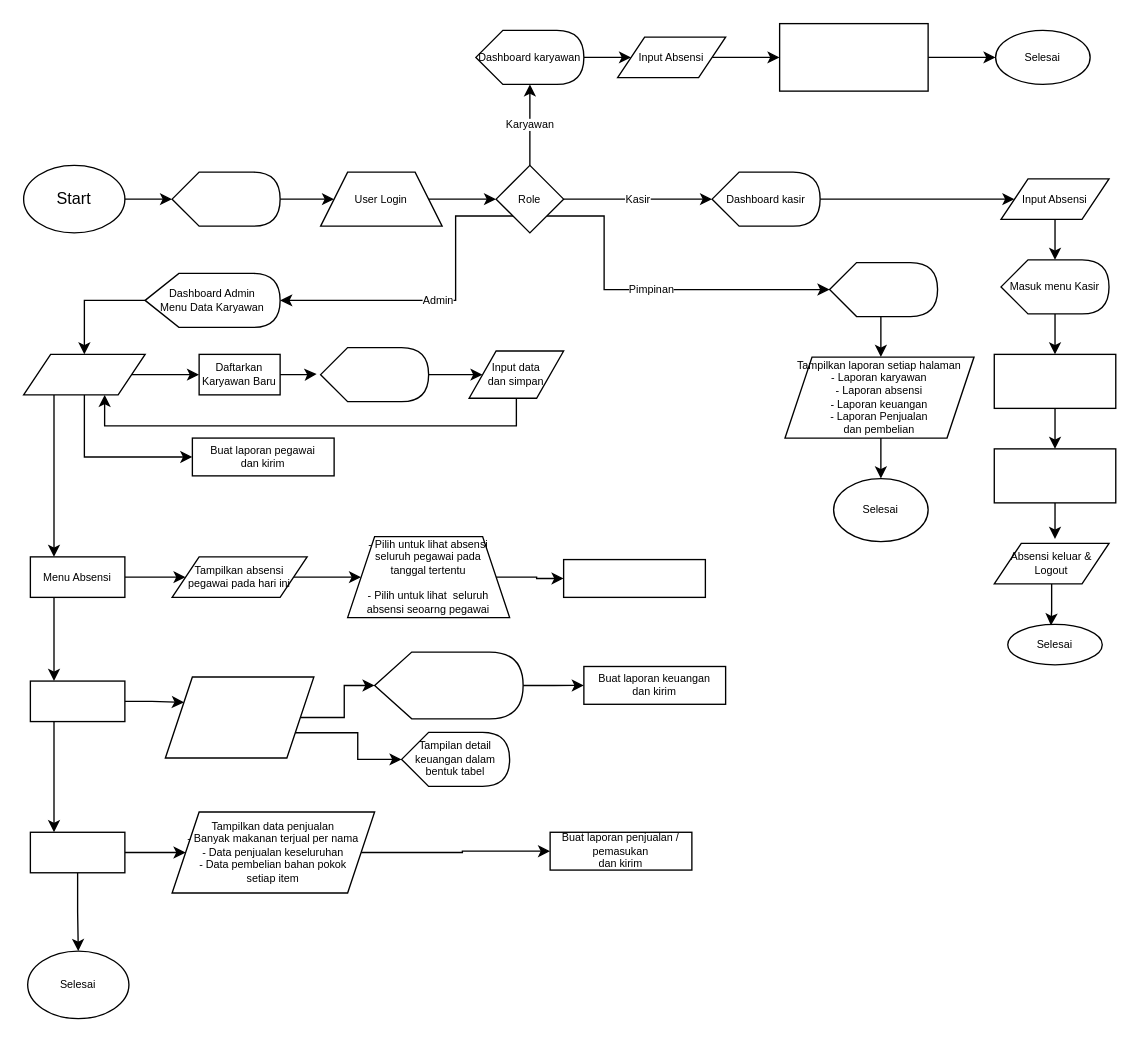
Some shapes in this 1139 by 1042 pixel diagram are drawn without their labels. Here are the shapes that lost their labels. From the top down, the centre of each, then its label:
At [853,56]: "Simpan data absensi Ambil nilai jam kerja absen keluar - absen masuk".
At [225,198]: "Halaman Login".
At [883,289]: "Dashboard Pimpinan".
At [83,374]: "Tampilkan data karyawan".
At [374,374]: "Menu tambah data karyawan".
At [1054,380]: "Melakukan tugas Kasir".
At [1054,475]: "Seluruh input kasir disimpan untuk nantinya diproses".
At [633,577]: "Buat laporan Absensi dan kirim".
At [77,701]: "Menu Keuangan".
At [448,685]: "Tampilan dalam bentuk diagram garis dari data keuangan setiap waktu".
At [239,717]: "Tampilkan arus data keuangan - Total saldo - Uang masuk - Uang keluar".
At [77,852]: "Menu Penjualan & Pembelian".
